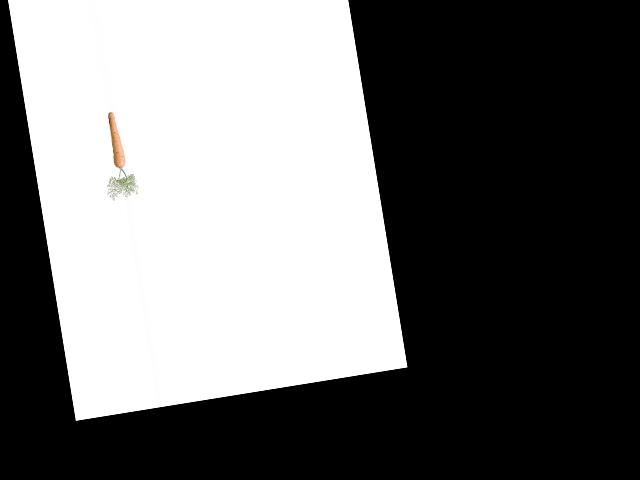carrot: (102, 108, 129, 174)
